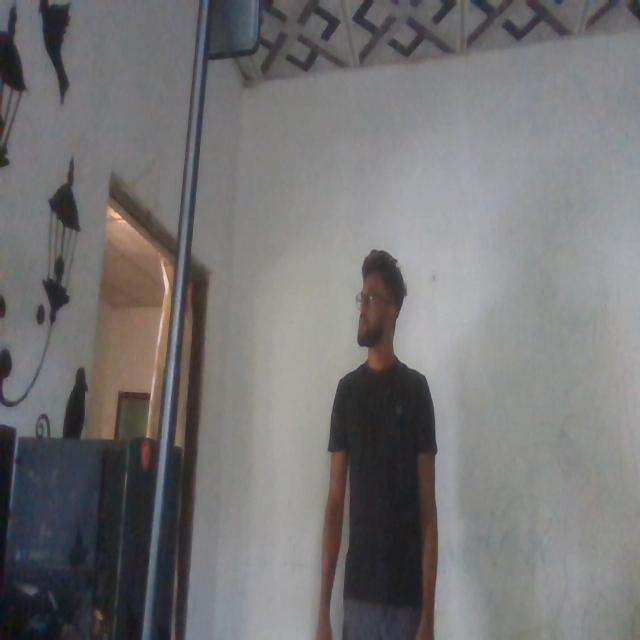Person: (313, 243, 442, 640)
